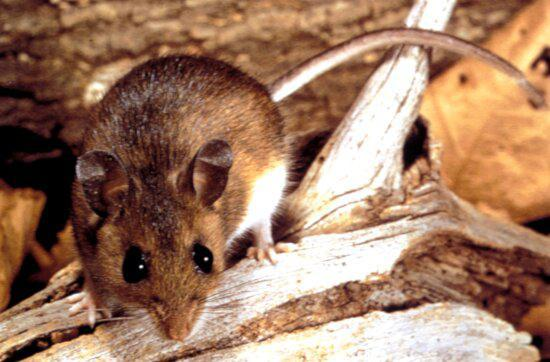rat: (72, 27, 542, 346)
